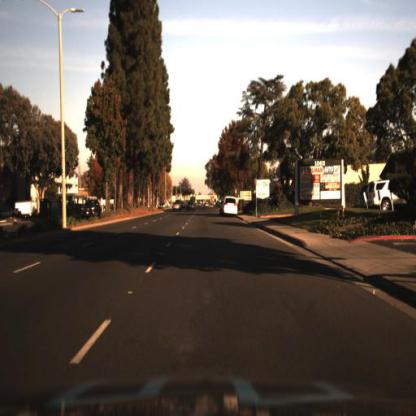car: (83, 195, 104, 220), (221, 194, 239, 222), (172, 198, 185, 214), (185, 198, 197, 215)
truck: (14, 196, 39, 218)
